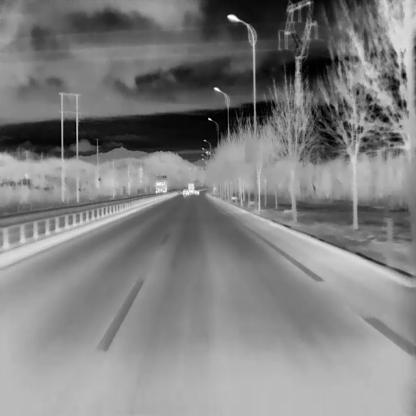car: (183, 188, 189, 195), (194, 189, 199, 195)
truck: (154, 179, 168, 193), (186, 182, 194, 193)
